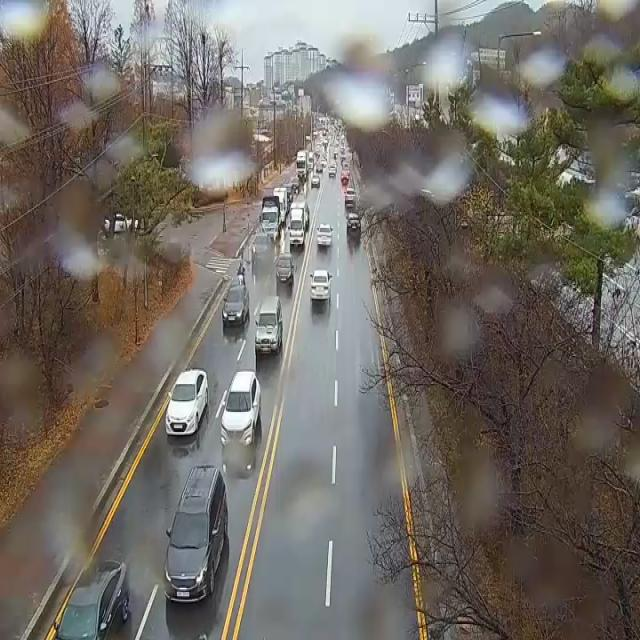Car: (164, 466, 228, 602), (53, 559, 130, 640), (221, 371, 261, 446), (166, 370, 208, 435), (255, 296, 282, 354), (222, 285, 249, 327), (310, 270, 333, 300), (252, 234, 274, 262), (104, 214, 138, 232), (276, 253, 294, 286), (317, 224, 333, 246), (346, 213, 362, 235), (344, 188, 356, 207), (284, 183, 293, 203), (292, 177, 300, 191), (312, 175, 320, 188), (309, 152, 314, 170), (328, 165, 336, 176), (341, 173, 349, 184), (342, 164, 350, 174), (306, 204, 309, 230), (317, 165, 323, 173), (321, 159, 326, 167), (287, 198, 289, 213)
Truck: (260, 196, 280, 241), (288, 202, 305, 245), (274, 187, 287, 225), (296, 151, 309, 177)
